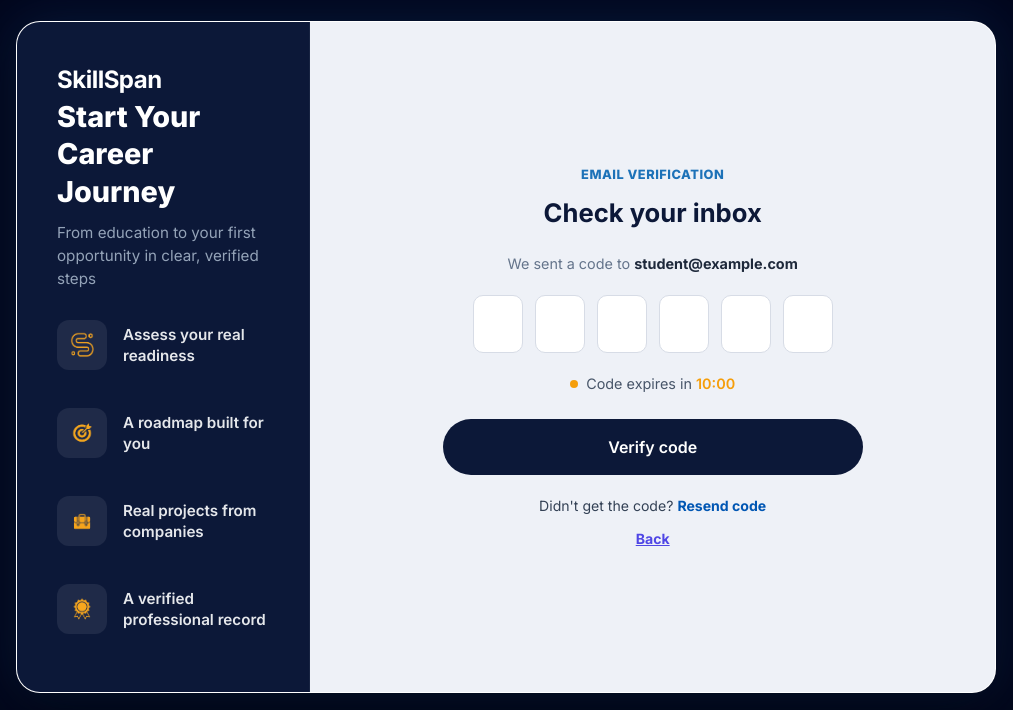
Test case: OtpVerification › shows the success screen only after the backend confirms verification
Type "1" into the 1st field at [498, 324], box [473,295,523,353]
Type "2" into the 2nd field at [560, 324], box [535,295,585,353]
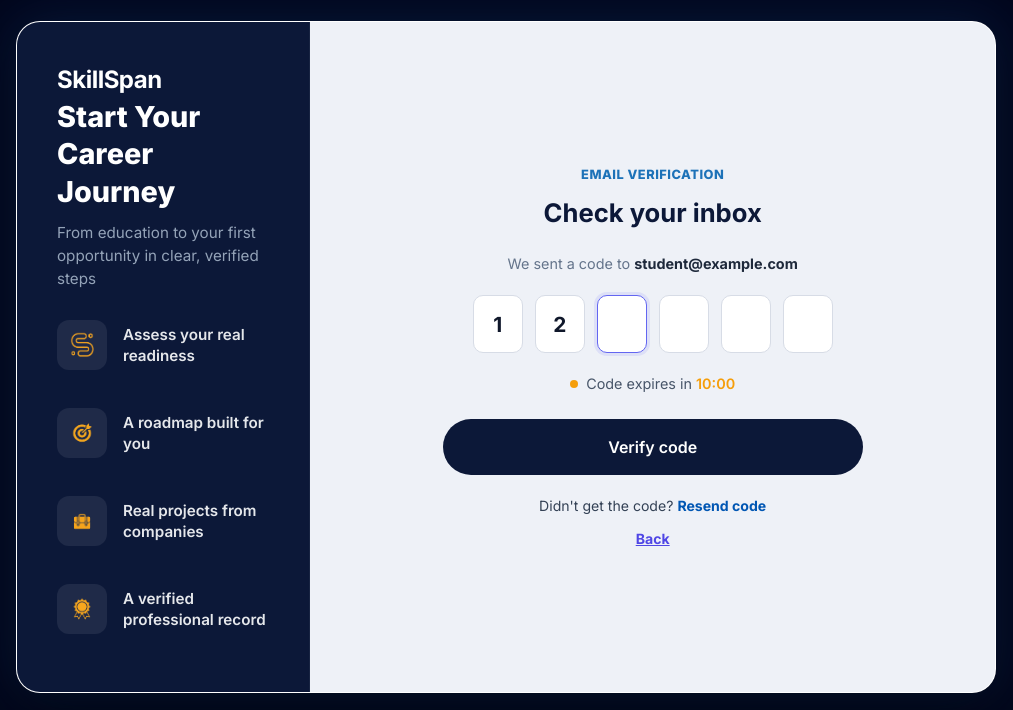
Type "3" into the 3rd field at [622, 324], box [597,295,647,353]
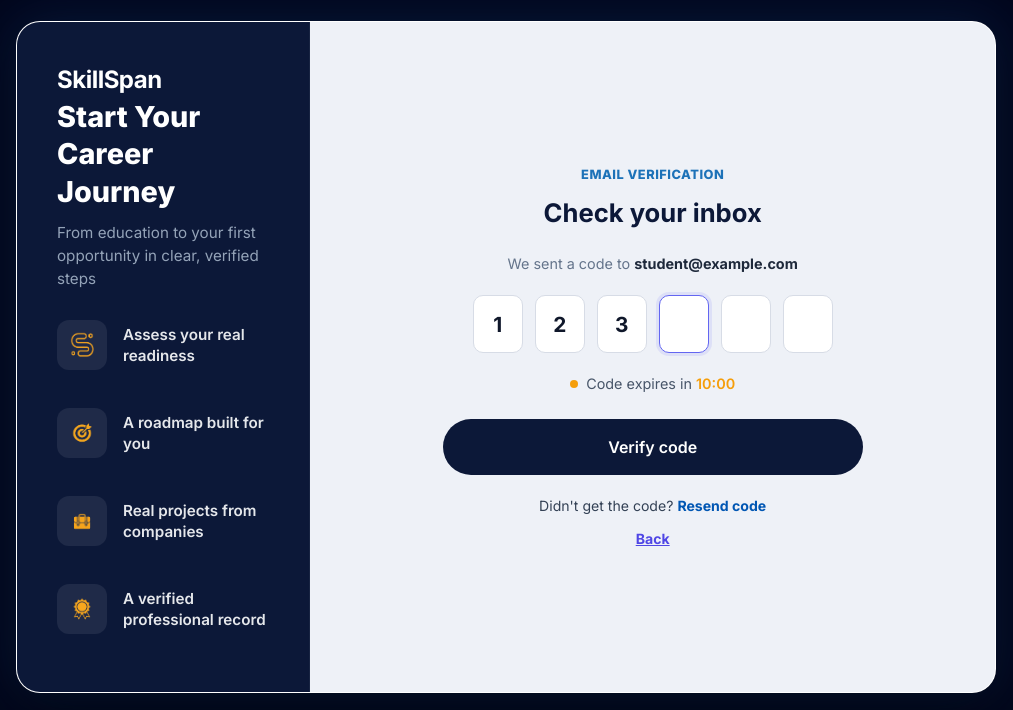
Type "4" into the 4th field at [684, 324], box [659,295,709,353]
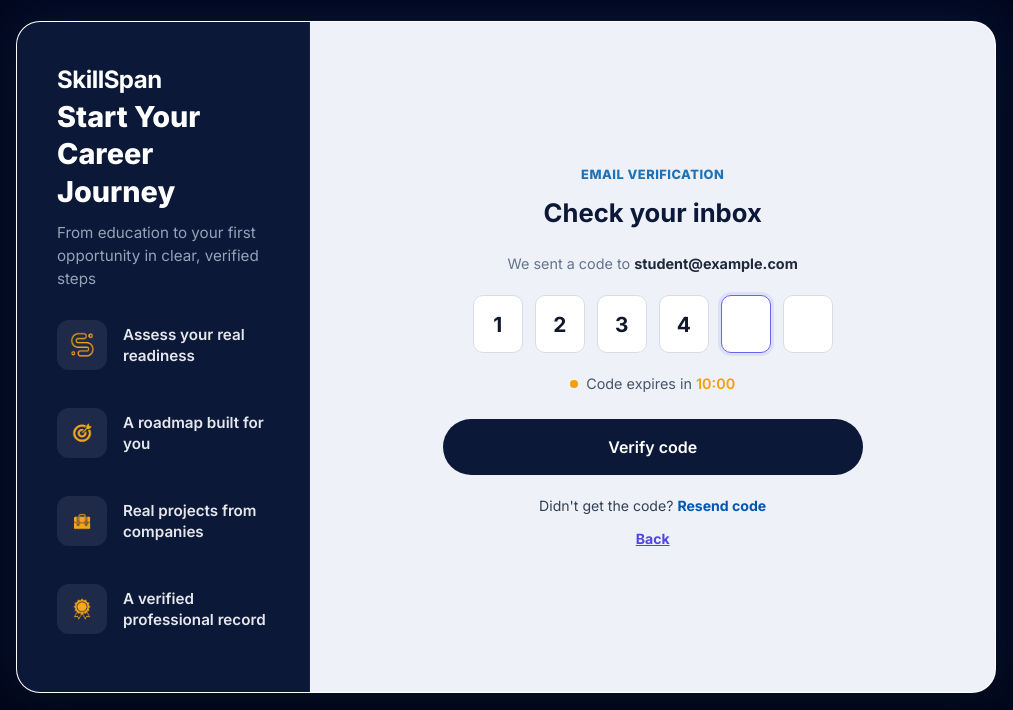
Type "5" into the 5th field at [746, 324], box [721,295,771,353]
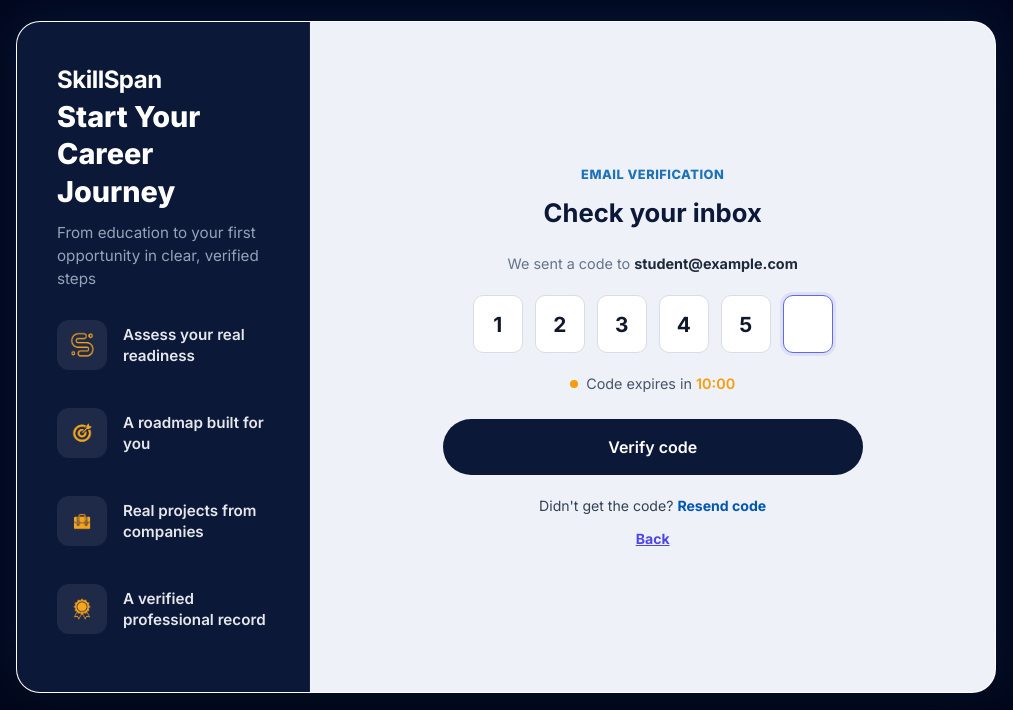
Type "6" into the 6th field at [808, 324], box [783,295,833,353]
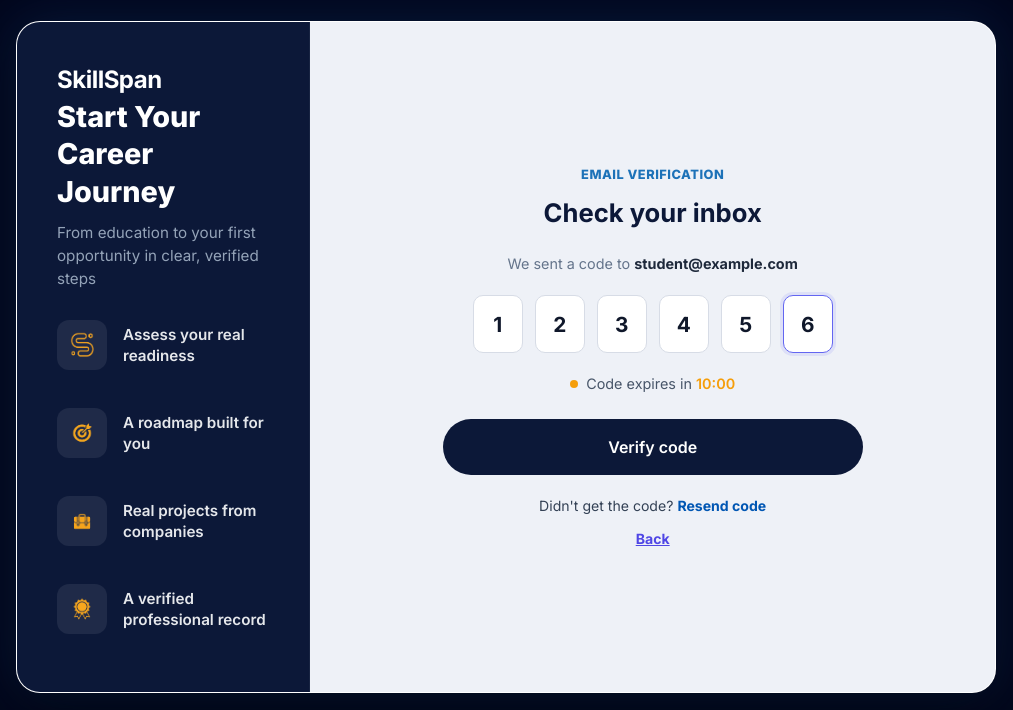
Click the button "Verify code" at [653, 447], box [443,419,863,475]
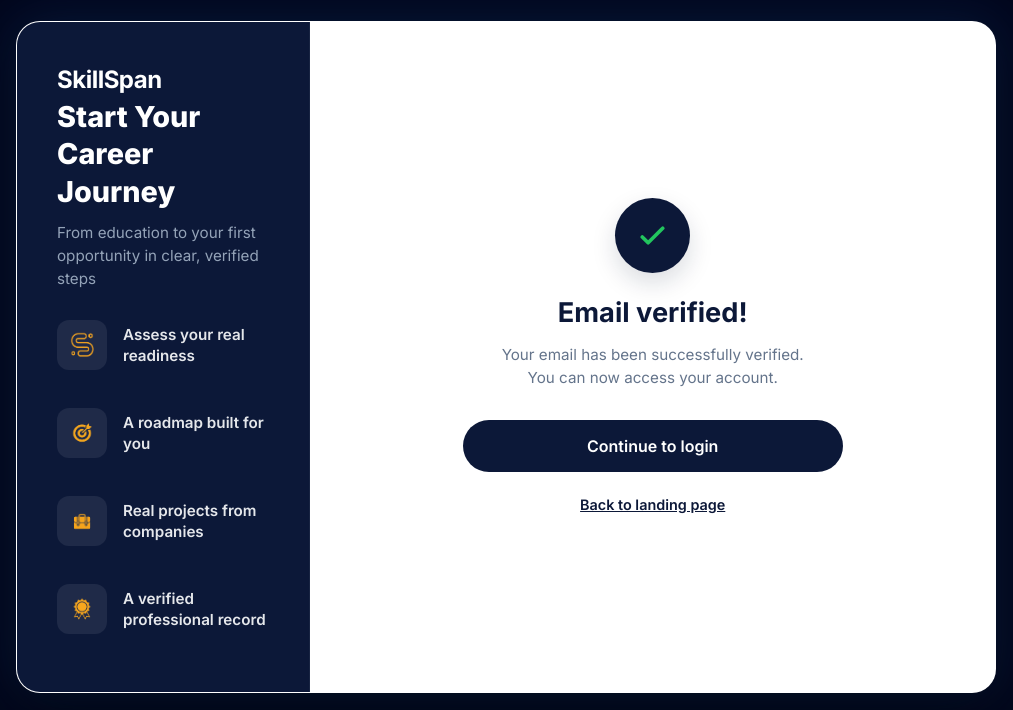
Now the heading "Email verified!" is shown, box [558,293,748,334]
